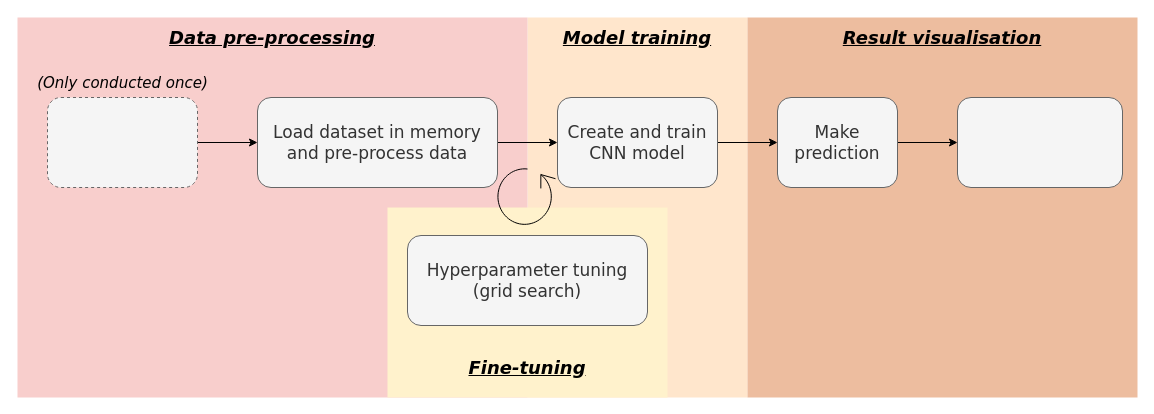
This 1154x414 diagram has some shape labels left out. The shapes that lost their labels are listed below. From the top down, each one's centre as x and y in pixels, then its label:
At (122,142): "Initial dataset pre-processing".
At (1039,142): "Visualise results (metrics & plots)".
